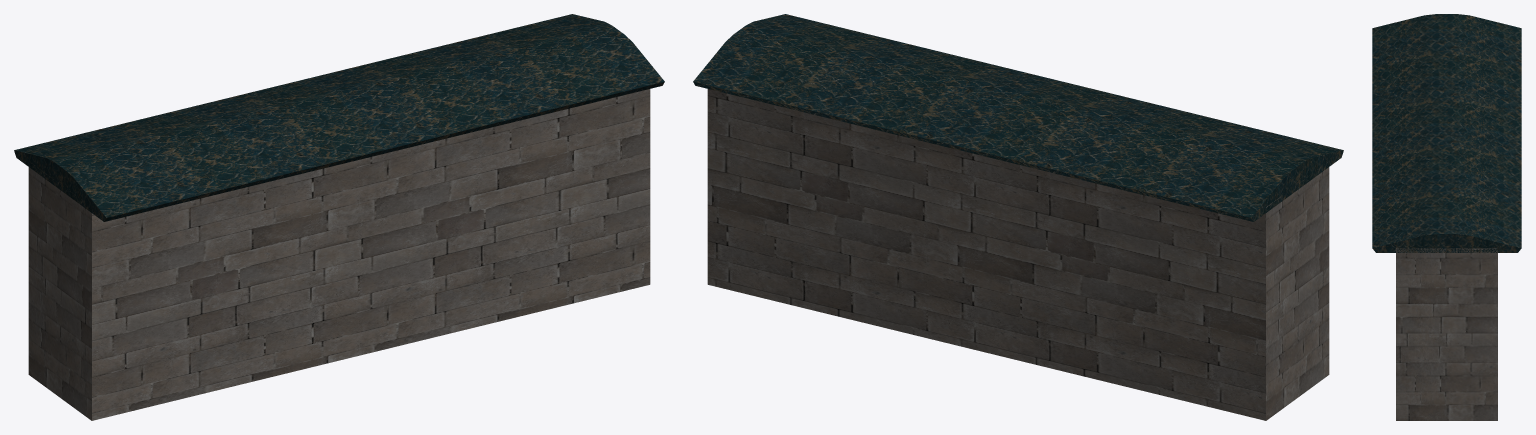
The model's file is Wall_Section.fbx.
3 renders of one model, left to right at view 1: azimuth 30°, elevation 25°; view 2: azimuth 150°, elevation 25°; view 3: azimuth 270°, elevation 25°, orthographic. The views are drawn at different scales.
Visible parts, largest first — view 1: Wall_Section; view 2: Wall_Section; view 3: Wall_Section.
Part boxes in pixels (x1,y1,x2,y2): Wall_Section: [14, 14, 664, 420]; Wall_Section: [693, 14, 1343, 420]; Wall_Section: [1372, 14, 1521, 420].
Bounding box in the file's own units: 54.68 × 21.65 × 15.68.
Materials: 2 (2 with a texture image).
